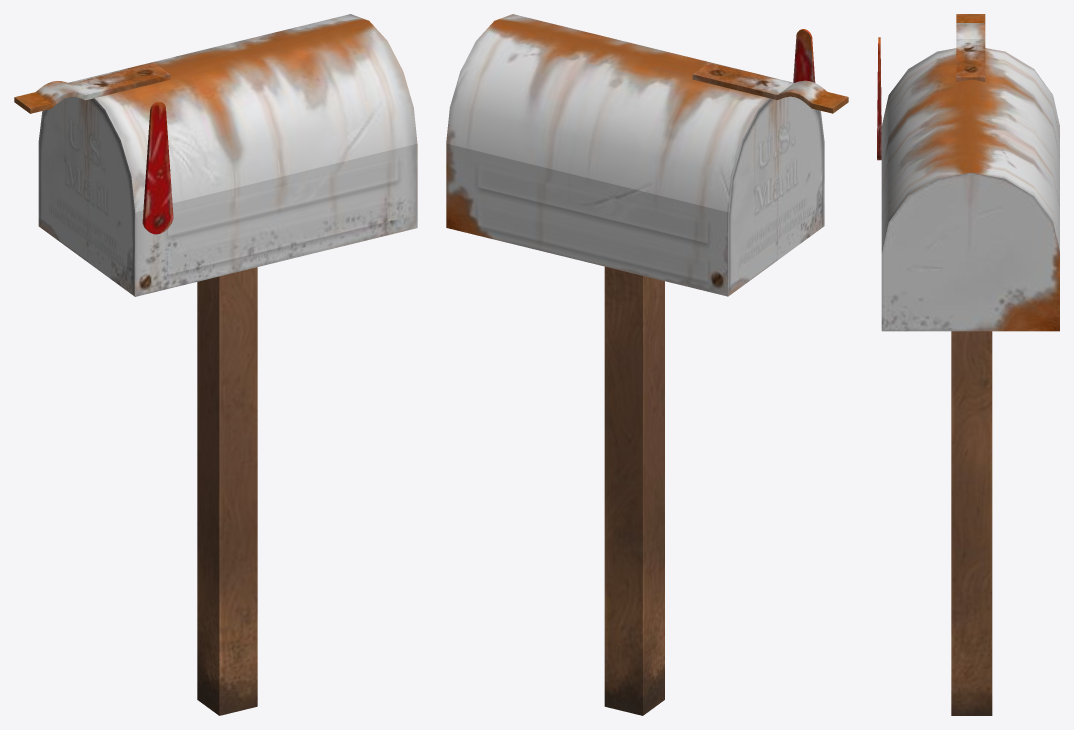
The model's file is mailbox_post.glb.
The picture shows the model from 3 angles, left to right: view 1: azimuth 30°, elevation 25°; view 2: azimuth 150°, elevation 25°; view 3: azimuth 270°, elevation 25°; orthographic projection. The views are drawn at different scales.
Parts seen in each view (by area): view 1: Cylinder002_w; view 2: Cylinder002_w; view 3: Cylinder002_w.
Boxes of the visible parts, left/top/right/bottom form: Cylinder002_w: left=14, top=14, right=417, bottom=715; Cylinder002_w: left=446, top=14, right=848, bottom=715; Cylinder002_w: left=877, top=14, right=1059, bottom=715.
Size of the model in its own units: 0.6532 by 1.2 by 0.3233.
1 material, 1 textured.
